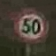limite 50: (12, 8, 48, 43)
